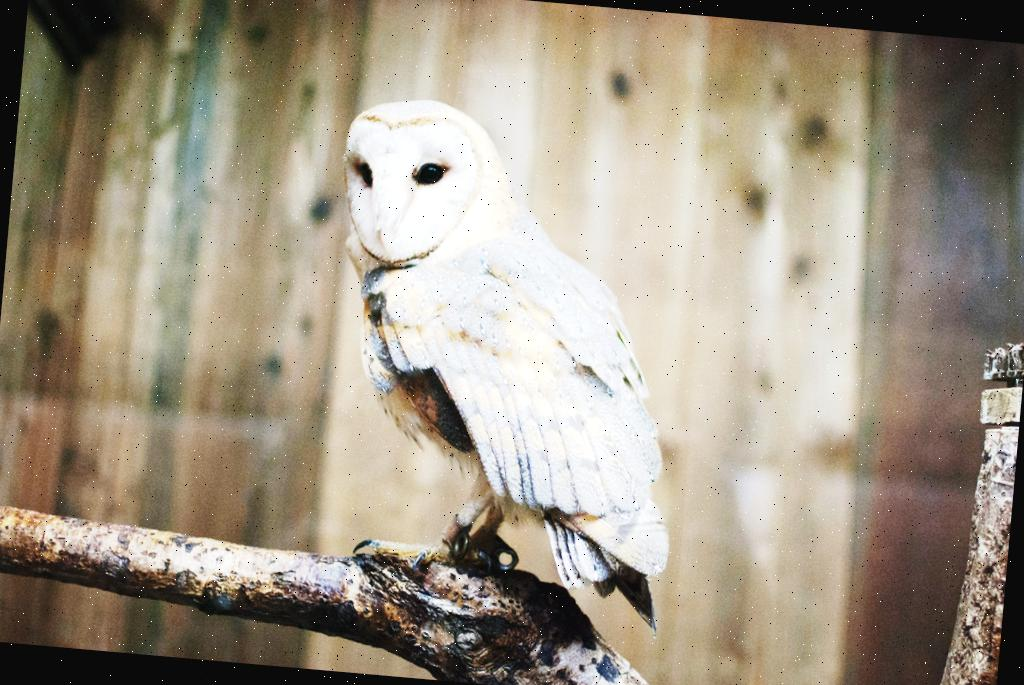Owl: (302, 75, 702, 616)
